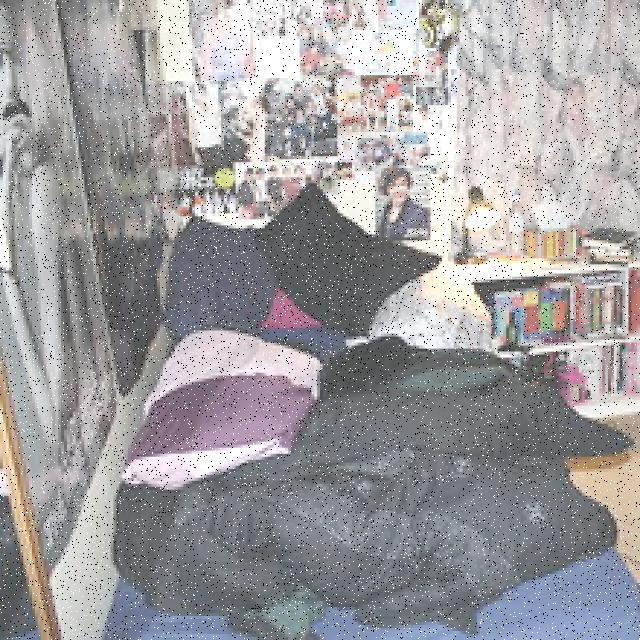bed: (116, 204, 614, 640)
